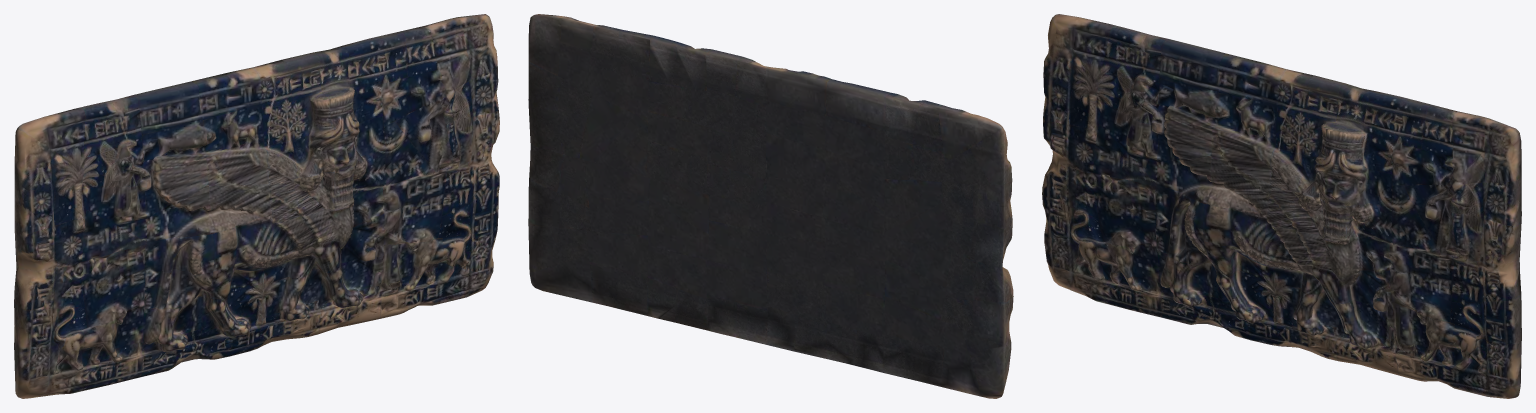
Rendered from babylon_lamassu_relief_tile.glb.
3 views of the same model, side by side, from view 1: azimuth 30°, elevation 25°; view 2: azimuth 150°, elevation 25°; view 3: azimuth 330°, elevation 25° (orthographic).
Parts seen in each view (by area): view 1: mesh_node; view 2: mesh_node; view 3: mesh_node.
Boxes of the visible parts, x1,y1,x2,y2 form: mesh_node: (14, 14, 499, 398); mesh_node: (528, 14, 1013, 398); mesh_node: (1042, 14, 1521, 398).
Bounding box in the file's own units: 1.9 × 1.07 × 0.1628.
Materials: 1 (1 with a texture image).
